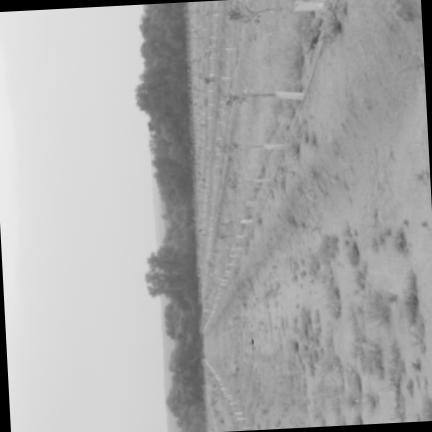Shahed: (249, 330, 254, 351)
